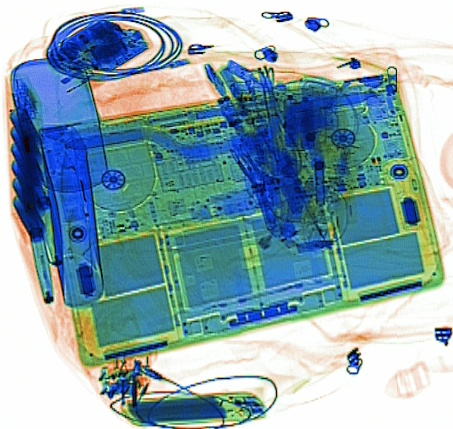powerbank: (4, 72, 53, 244)
